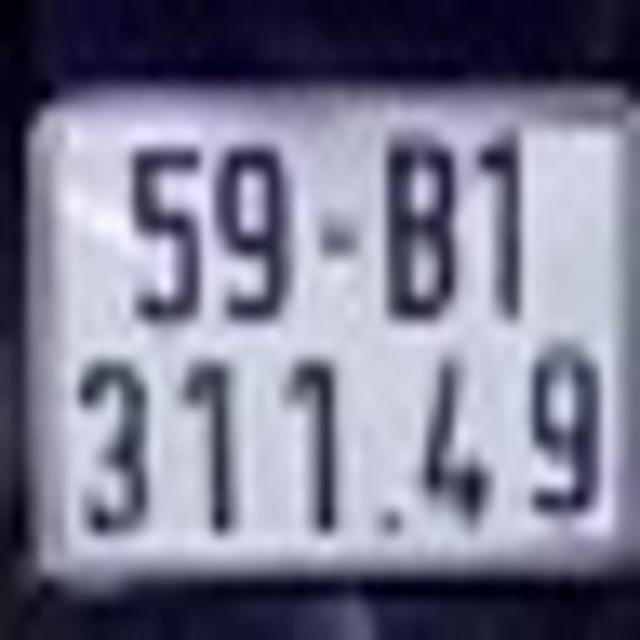1: (280, 349, 340, 538), (186, 354, 242, 529), (476, 130, 527, 317)
3: (75, 358, 157, 534)
4: (426, 357, 488, 530)
5: (136, 142, 202, 326)
9: (531, 340, 602, 524), (218, 142, 285, 316)
B: (386, 152, 458, 313)
